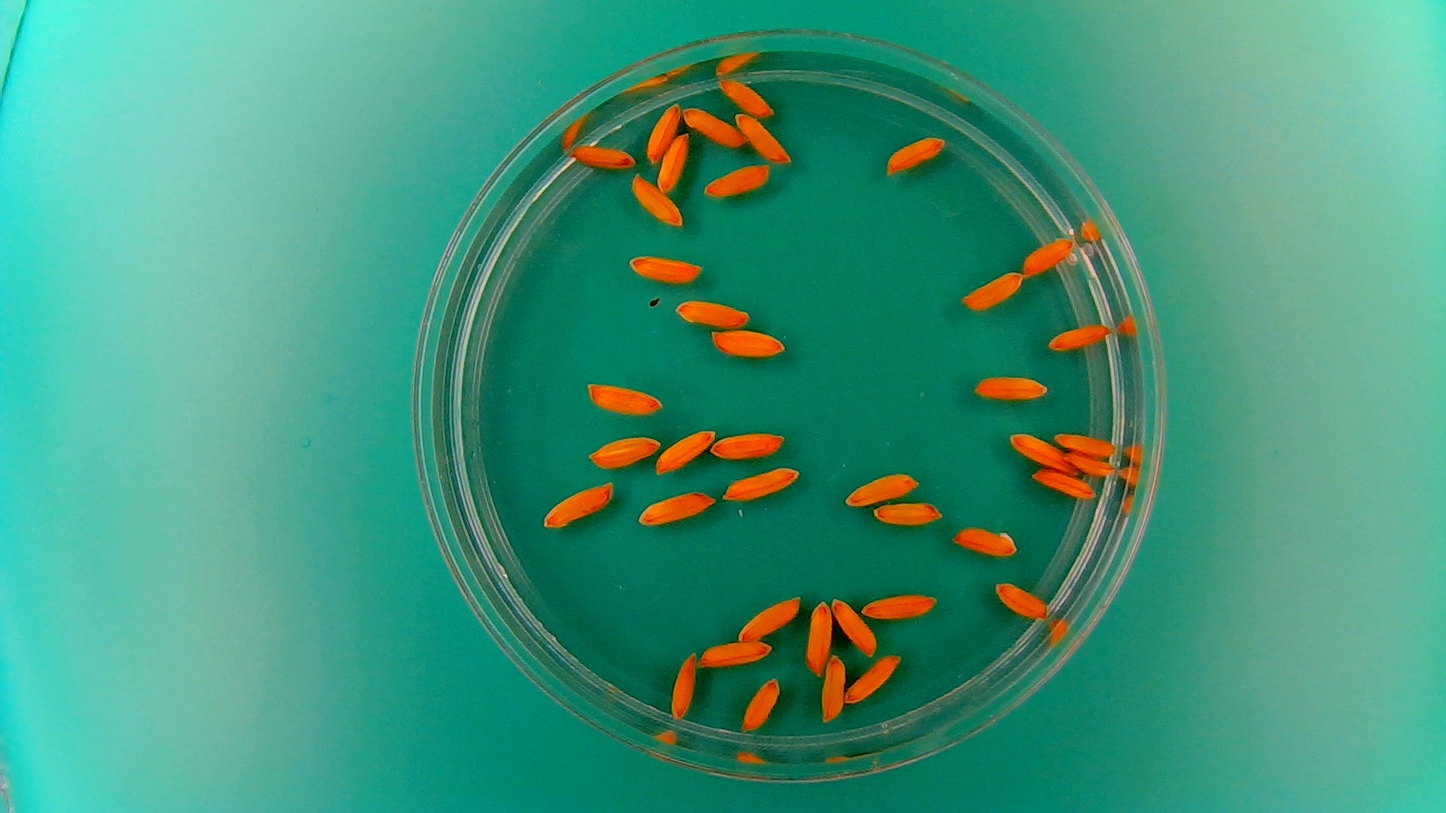no: (954, 266, 1033, 317), (538, 479, 615, 531), (721, 462, 804, 503), (653, 424, 717, 477), (880, 130, 949, 179), (734, 592, 801, 642), (841, 467, 920, 509), (734, 109, 793, 165), (843, 651, 903, 706), (635, 488, 717, 528), (1005, 429, 1076, 474), (629, 171, 685, 228), (584, 431, 664, 470), (584, 379, 666, 417), (1017, 231, 1078, 281), (681, 103, 746, 149), (856, 587, 940, 622), (830, 594, 877, 656), (709, 425, 787, 461), (700, 160, 772, 199), (708, 326, 788, 361), (625, 251, 706, 285), (950, 520, 1020, 559), (673, 295, 752, 329), (970, 370, 1050, 403), (715, 75, 776, 118), (992, 578, 1050, 623), (803, 596, 834, 677), (656, 127, 692, 195), (740, 674, 782, 732), (697, 637, 773, 669), (644, 98, 682, 162), (1029, 465, 1097, 500), (667, 648, 699, 722), (569, 136, 638, 170), (872, 498, 946, 528), (1045, 320, 1111, 353), (819, 651, 847, 723), (1051, 428, 1117, 458), (1060, 450, 1117, 478)
